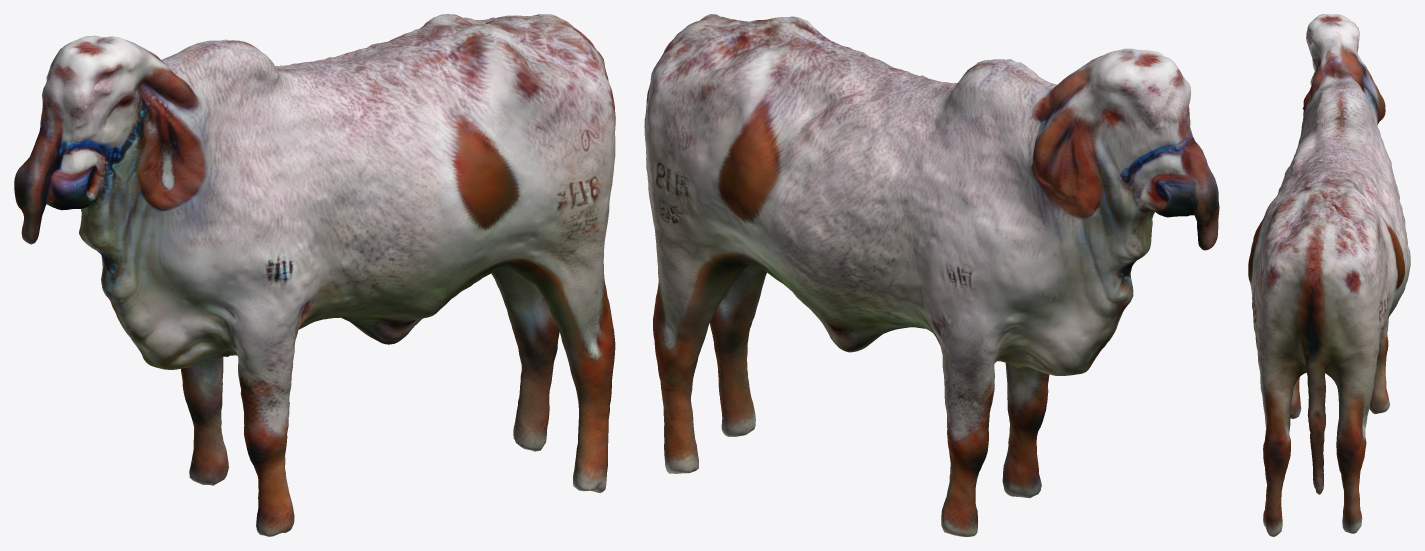
Rendered from joven.glb.
3 views of the same model, side by side, from view 1: azimuth 30°, elevation 25°; view 2: azimuth 150°, elevation 25°; view 3: azimuth 270°, elevation 25° (orthographic). The views are drawn at different scales.
Parts seen in each view (by area): view 1: mesh; view 2: mesh; view 3: mesh.
Boxes of the visible parts, bbox=[...] form: mesh: bbox=[14, 14, 615, 536]; mesh: bbox=[644, 14, 1219, 536]; mesh: bbox=[1248, 14, 1410, 536].
Size of the model in its own units: 1.58 by 1.4 by 0.5664.
1 material, 1 textured.
